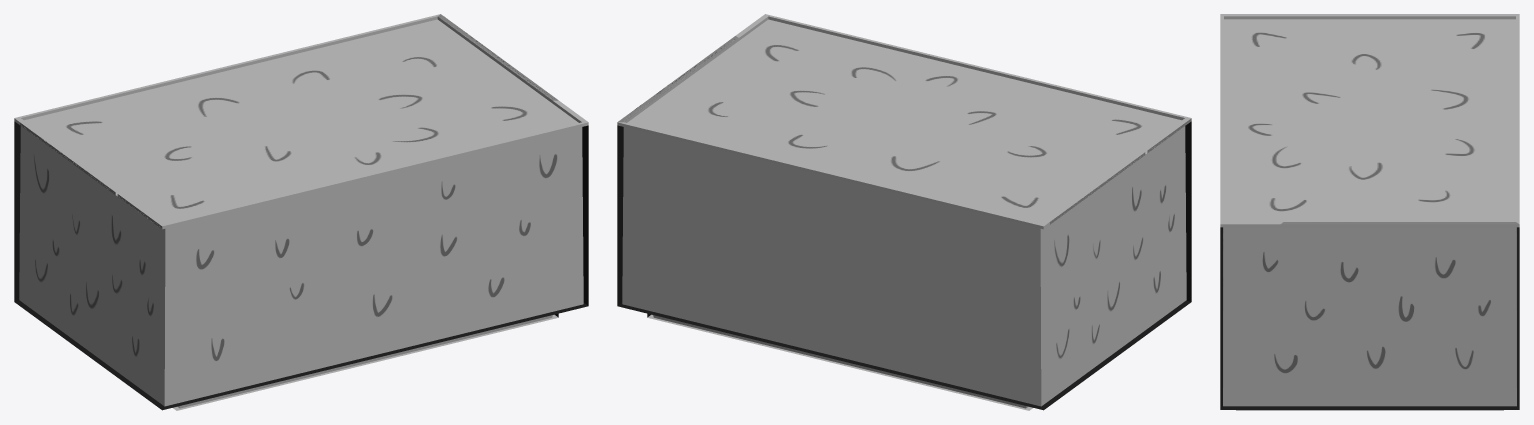
Rendered from Planta.fbx.
The picture shows the model from 3 angles, left to right: view 1: azimuth 30°, elevation 25°; view 2: azimuth 150°, elevation 25°; view 3: azimuth 270°, elevation 25°; orthographic projection.
Visible parts, largest first — view 1: planta1; view 2: planta1; view 3: planta1.
Part boxes in pixels (x1,y1,x2,y2): planta1: (14, 14, 588, 410); planta1: (617, 14, 1191, 410); planta1: (1220, 14, 1519, 410).
Size of the model in its own units: 103 by 45.18 by 61.96.
